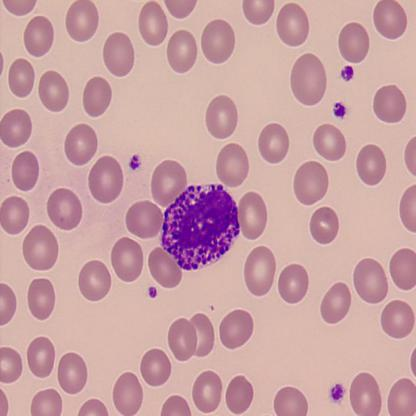Basophil: (158, 180, 242, 274)
